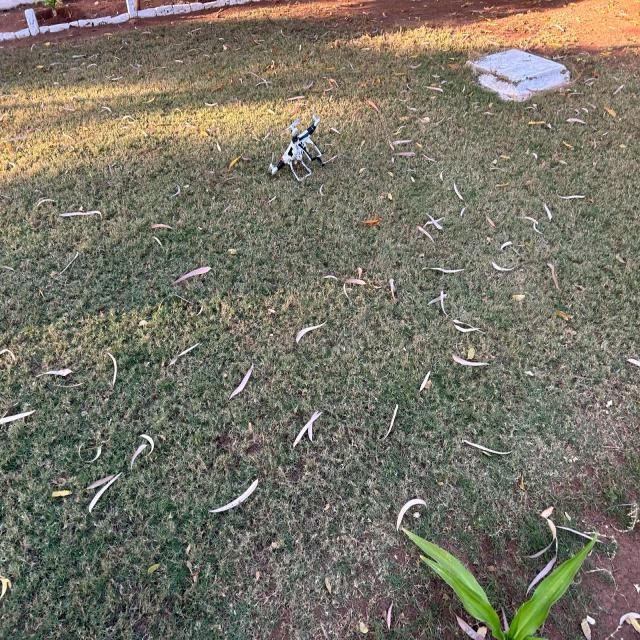drone: (256, 80, 357, 212)
